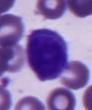L: (24, 28, 72, 80)
